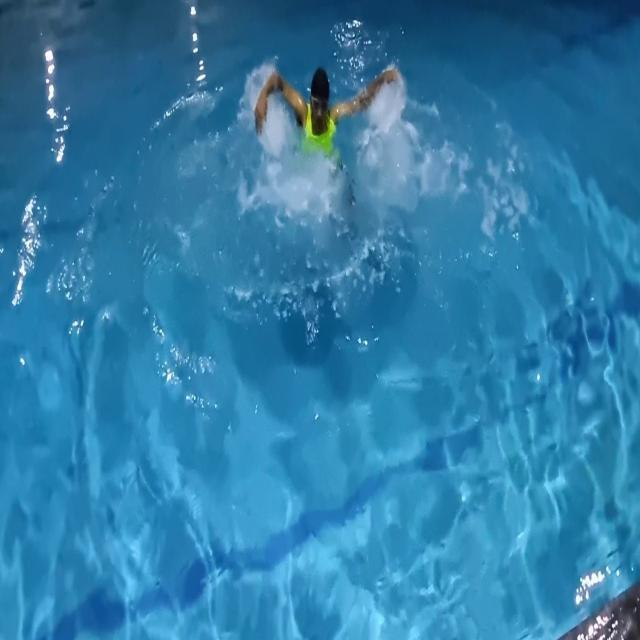Drowning: (213, 39, 445, 308)
